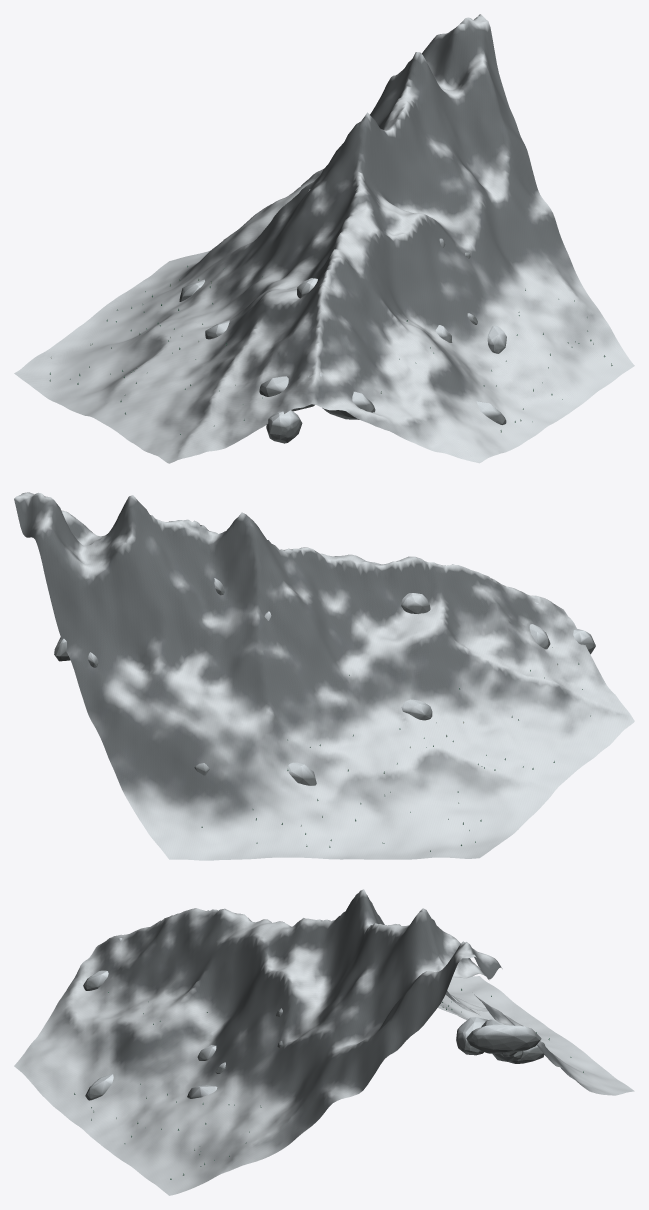
The picture shows the model from 3 angles, top to bottom: view 1: azimuth 30°, elevation 25°; view 2: azimuth 150°, elevation 25°; view 3: azimuth 270°, elevation 25°; orthographic projection.
Parts seen in each view (by area): view 1: terrain_v10, supported_bedrock; view 2: terrain_v10, supported_bedrock; view 3: terrain_v10, supported_bedrock.
Boxes of the visible parts, x1,y1,x2,y2 form: terrain_v10: (14, 14, 634, 463); supported_bedrock: (179, 189, 506, 443); terrain_v10: (14, 492, 634, 860); supported_bedrock: (54, 578, 595, 785); terrain_v10: (14, 889, 634, 1195); supported_bedrock: (83, 938, 545, 1100).
Bounding box in the file's own units: 4330 × 2258 × 5000.
3 materials, 2 textured.
